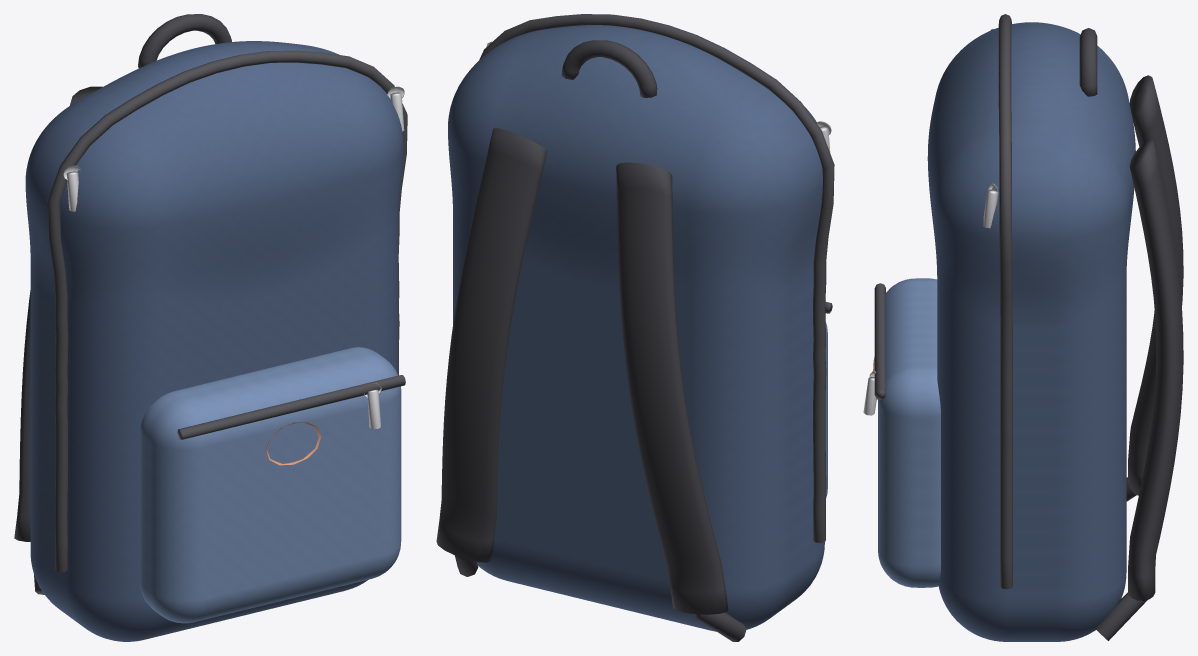
The model's file is backpack.glb.
The picture shows the model from 3 angles, left to right: view 1: azimuth 30°, elevation 25°; view 2: azimuth 150°, elevation 25°; view 3: azimuth 270°, elevation 25°; orthographic projection. The views are drawn at different scales.
Visible parts, largest first — view 1: backpack_mesh; view 2: backpack_mesh; view 3: backpack_mesh.
Part boxes in pixels (x1,y1,x2,y2): backpack_mesh: (14, 14, 407, 641); backpack_mesh: (436, 14, 834, 641); backpack_mesh: (863, 14, 1183, 641).
Size of the model in its own units: 0.3219 by 0.4844 by 0.2537.
